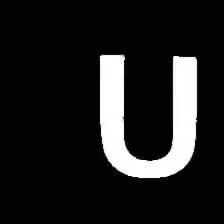LTR_U: (91, 43, 203, 178)
